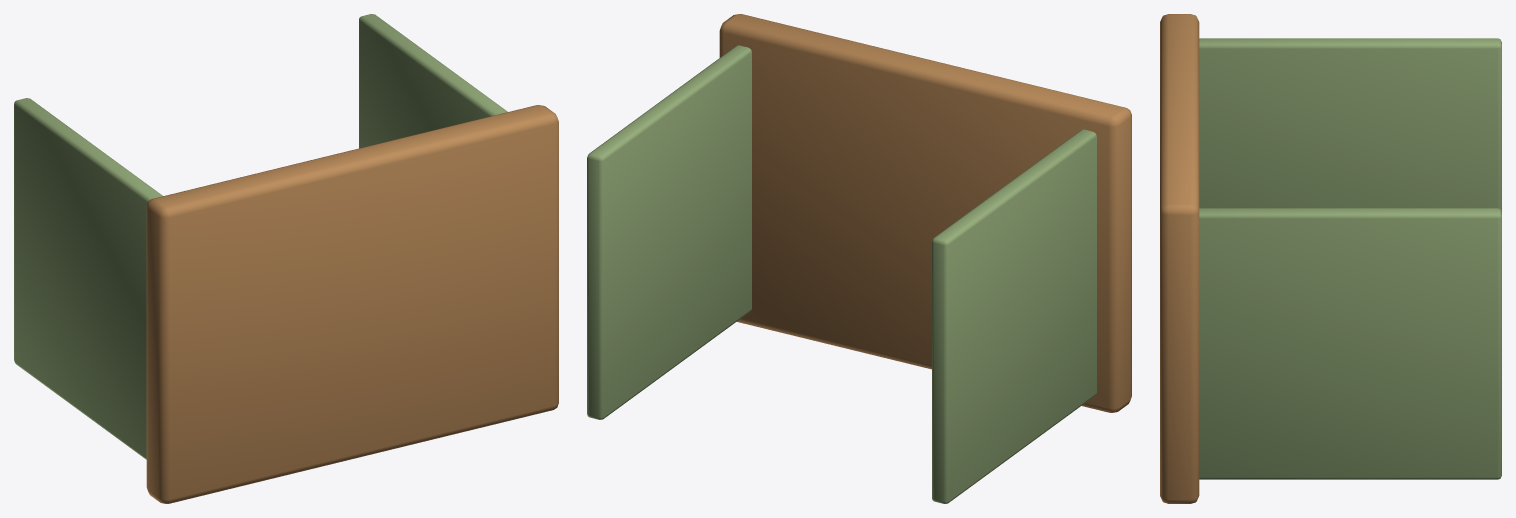
Rendered from cow_station.glb.
3 views of the same model, side by side, from view 1: azimuth 30°, elevation 25°; view 2: azimuth 150°, elevation 25°; view 3: azimuth 270°, elevation 25° (orthographic).
Parts seen in each view (by area): view 1: Platform, Rail, Rail.001; view 2: Platform, Rail, Rail.001; view 3: Rail.001, Rail, Platform.
Part boxes in pixels (left/top/right/bottom): Platform: left=146, top=105, right=558, bottom=503; Rail: left=14, top=98, right=163, bottom=459; Rail.001: left=359, top=14, right=507, bottom=148; Platform: left=719, top=14, right=1131, bottom=412; Rail: left=932, top=129, right=1096, bottom=503; Rail.001: left=587, top=45, right=751, bottom=419; Rail.001: left=1199, top=208, right=1501, bottom=479; Rail: left=1199, top=38, right=1501, bottom=211; Platform: left=1160, top=14, right=1199, bottom=503.
Size of the model in its own units: 1.9 by 1.35 by 1.4.
